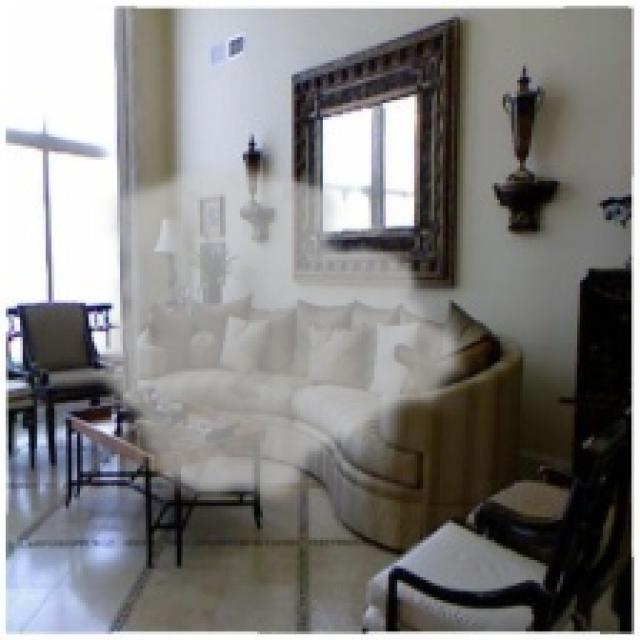smoke: (94, 160, 474, 511)
